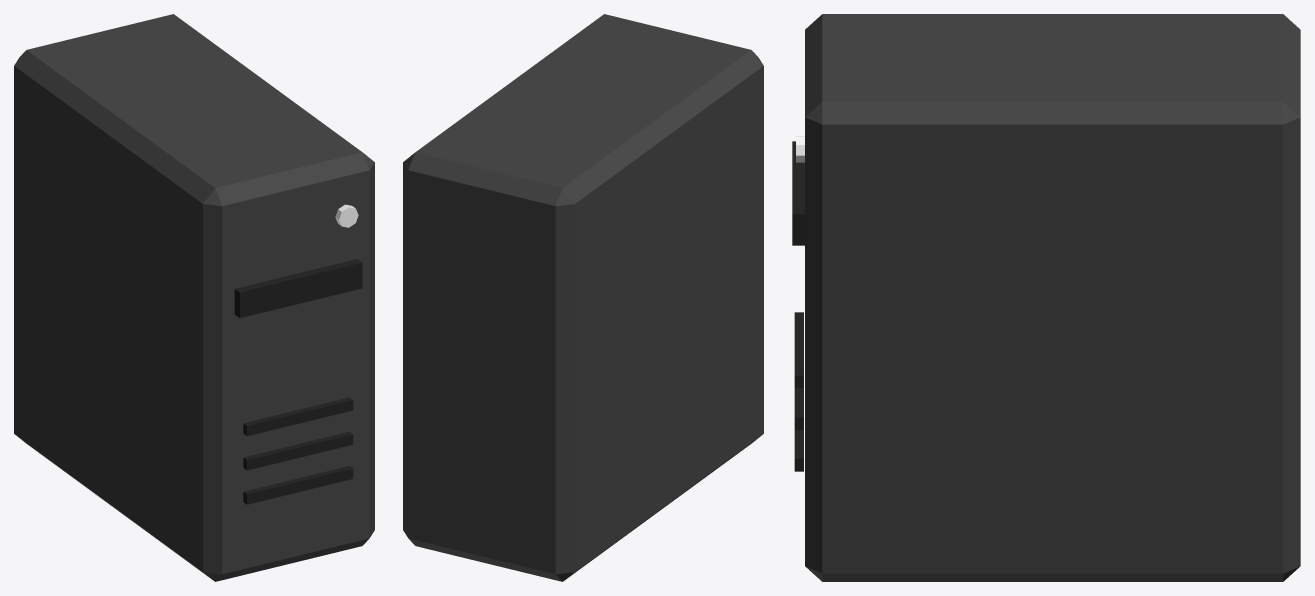
3 renders of one model, left to right at view 1: azimuth 30°, elevation 25°; view 2: azimuth 150°, elevation 25°; view 3: azimuth 270°, elevation 25°, orthographic. The views are drawn at different scales.
Parts seen in each view (by area): view 1: Tower, Drive, Vent, Vent.001, Vent.002; view 2: Tower; view 3: Tower, Drive, Vent.002.
Boxes of the visible parts, x1,y1,x2,y2 form: Tower: (14, 14, 374, 581); Drive: (234, 259, 362, 318); Vent: (243, 466, 353, 504); Vent.001: (243, 431, 353, 470); Vent.002: (243, 397, 353, 436); Tower: (403, 14, 763, 581); Tower: (805, 14, 1300, 581); Drive: (792, 141, 804, 245); Vent.002: (794, 312, 803, 387).
Bounding box in the file's own units: 21 × 46 × 44.1.
